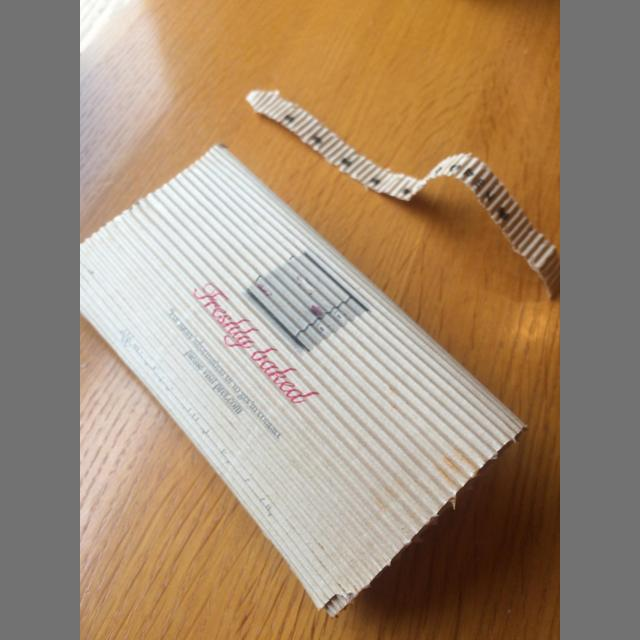litter: (80, 143, 527, 617), (246, 91, 560, 301)
